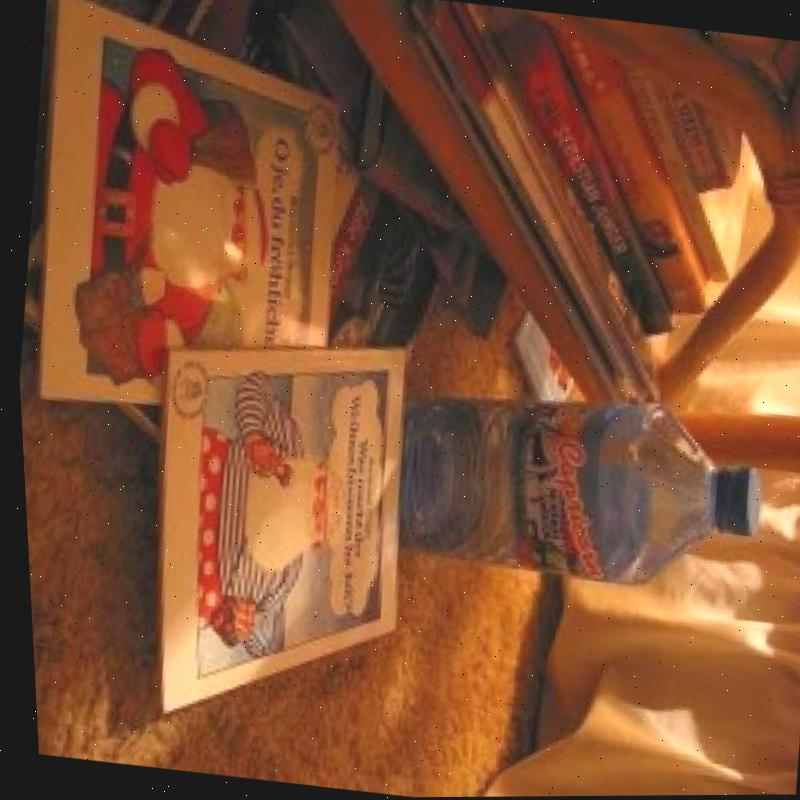botella: (377, 375, 765, 601)
